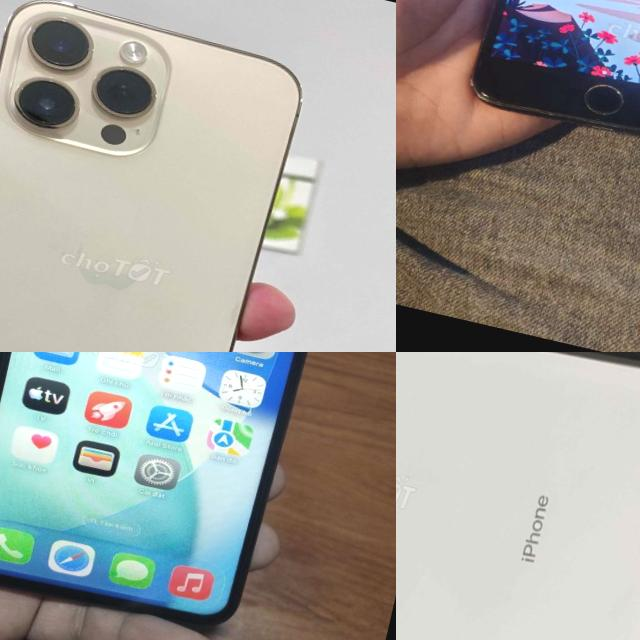scratch: (516, 95, 640, 154), (572, 72, 634, 121), (464, 75, 498, 106)
